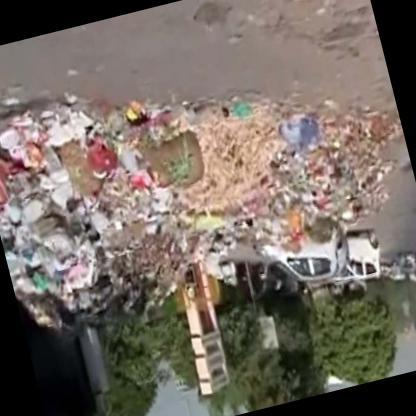Garbage: (0, 93, 122, 333), (76, 92, 226, 263), (196, 92, 321, 248), (268, 100, 329, 168)
